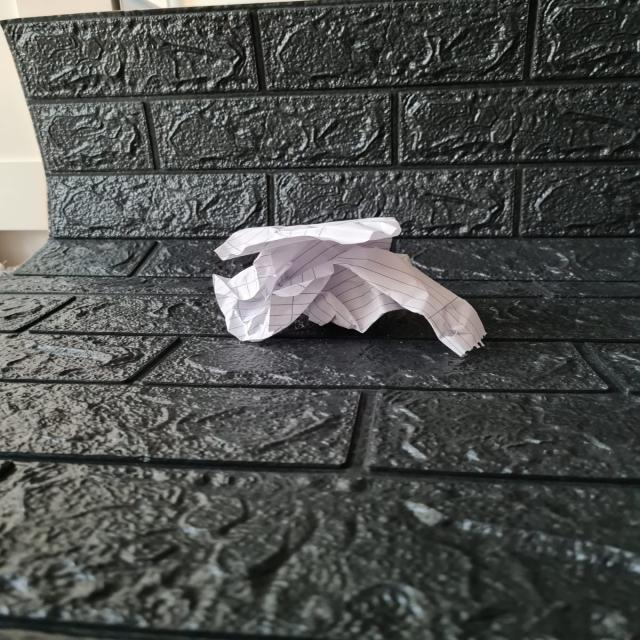Paper: (210, 215, 484, 360)
